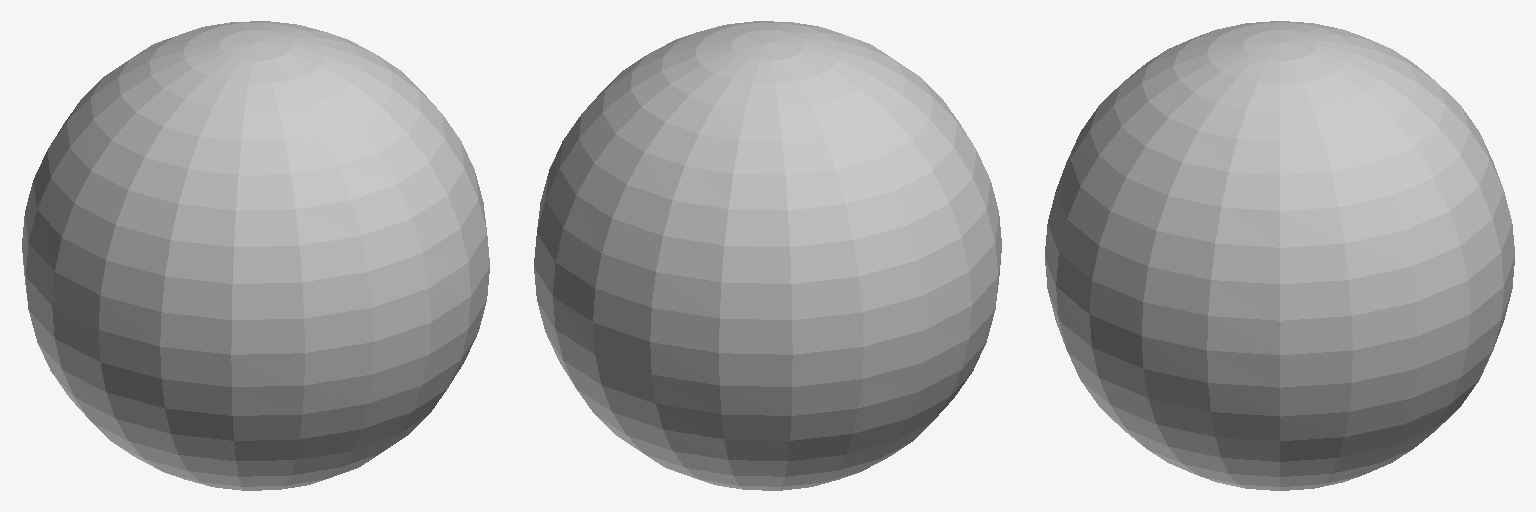
File: defaultMaterial_2.obj
The picture shows the model from 3 angles: view 1: azimuth 30°, elevation 25°; view 2: azimuth 150°, elevation 25°; view 3: azimuth 270°, elevation 25°; orthographic projection.
Parts seen in each view (by area): view 1: defaultMaterial_2; view 2: defaultMaterial_2; view 3: defaultMaterial_2.
Boxes of the visible parts, box(x1,y1,x2,y2) form: defaultMaterial_2: box(22, 21, 489, 490); defaultMaterial_2: box(534, 21, 1001, 490); defaultMaterial_2: box(1045, 21, 1514, 490).
Size of the model in its own units: 1.74 by 1.74 by 1.74.